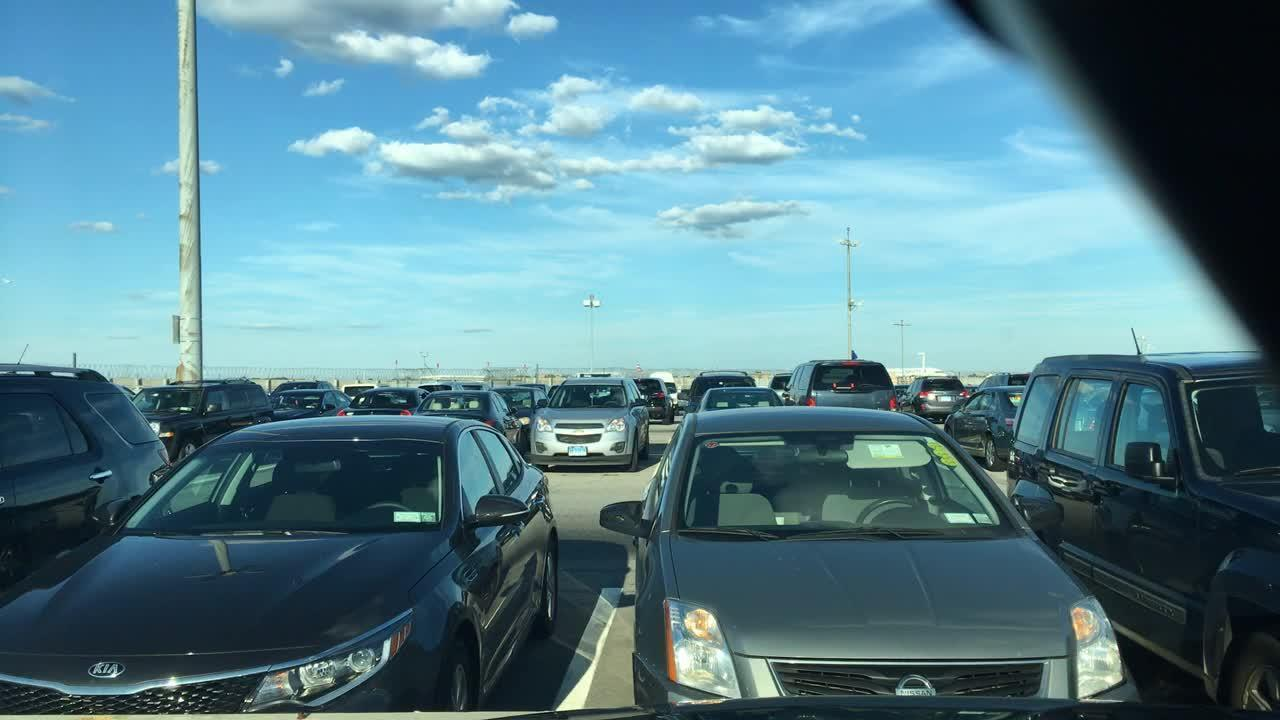kia: (86, 655, 126, 687)
